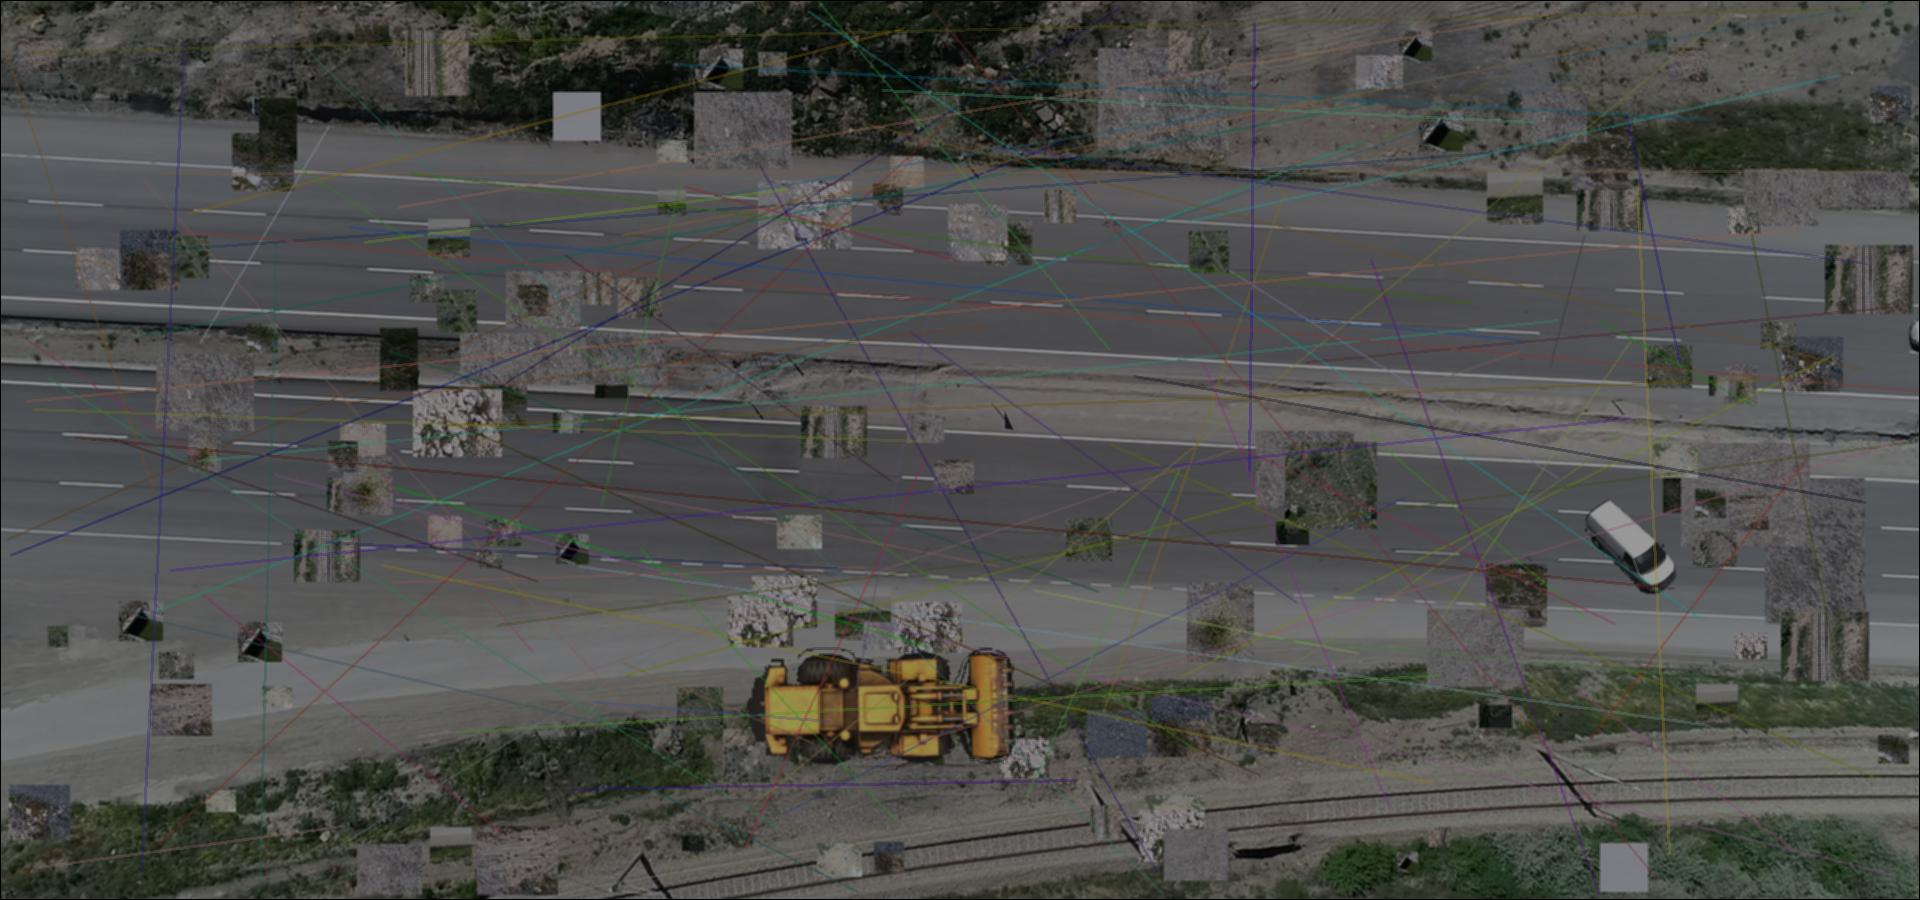arac: (744, 642, 1019, 768), (1584, 497, 1678, 594)
